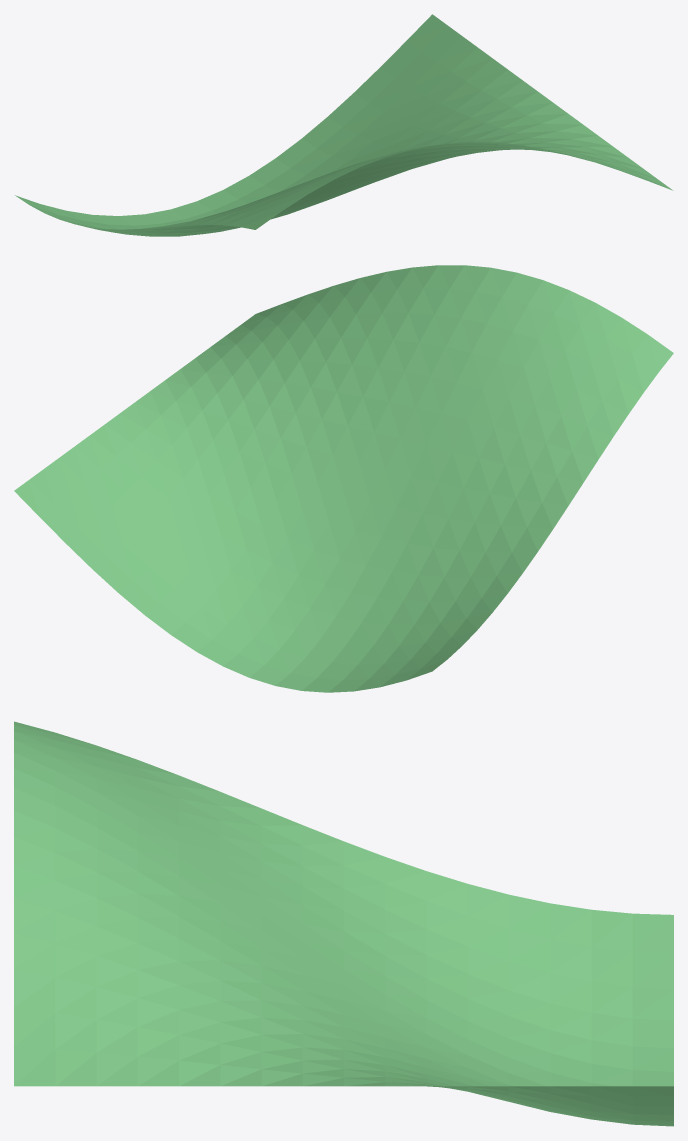
3 views of the same model, one above another, from view 1: azimuth 30°, elevation 25°; view 2: azimuth 150°, elevation 25°; view 3: azimuth 270°, elevation 25° (orthographic). The views are drawn at different scales.
Bounding box in the file's own units: 10 × 5.4 × 10.
